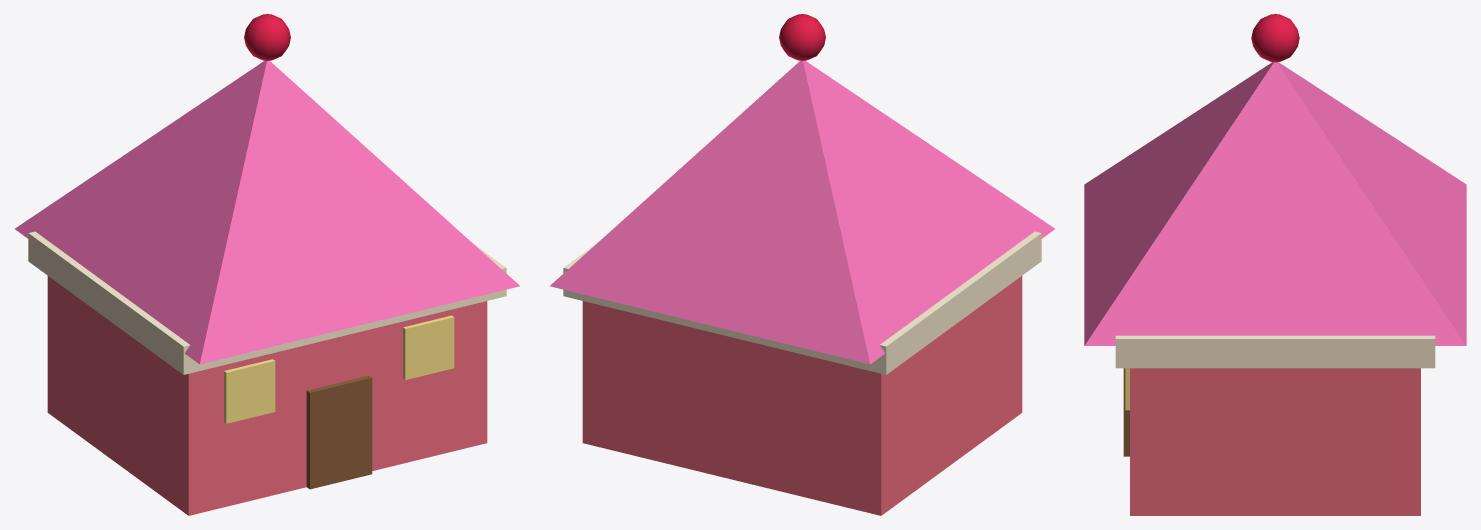
The model's file is land-cottage.glb.
3 views of the same model, side by side, from view 1: azimuth 30°, elevation 25°; view 2: azimuth 150°, elevation 25°; view 3: azimuth 270°, elevation 25° (orthographic). The views are drawn at different scales.
Parts seen in each view (by area): view 1: land-cottage; view 2: land-cottage; view 3: land-cottage.
Boxes of the visible parts, x1,y1,x2,y2 form: land-cottage: (15,14,519,515); land-cottage: (550,14,1054,515); land-cottage: (1084,14,1466,515).
Size of the model in its own units: 2.38 by 2.9 by 2.36.
1 material, 1 textured.
